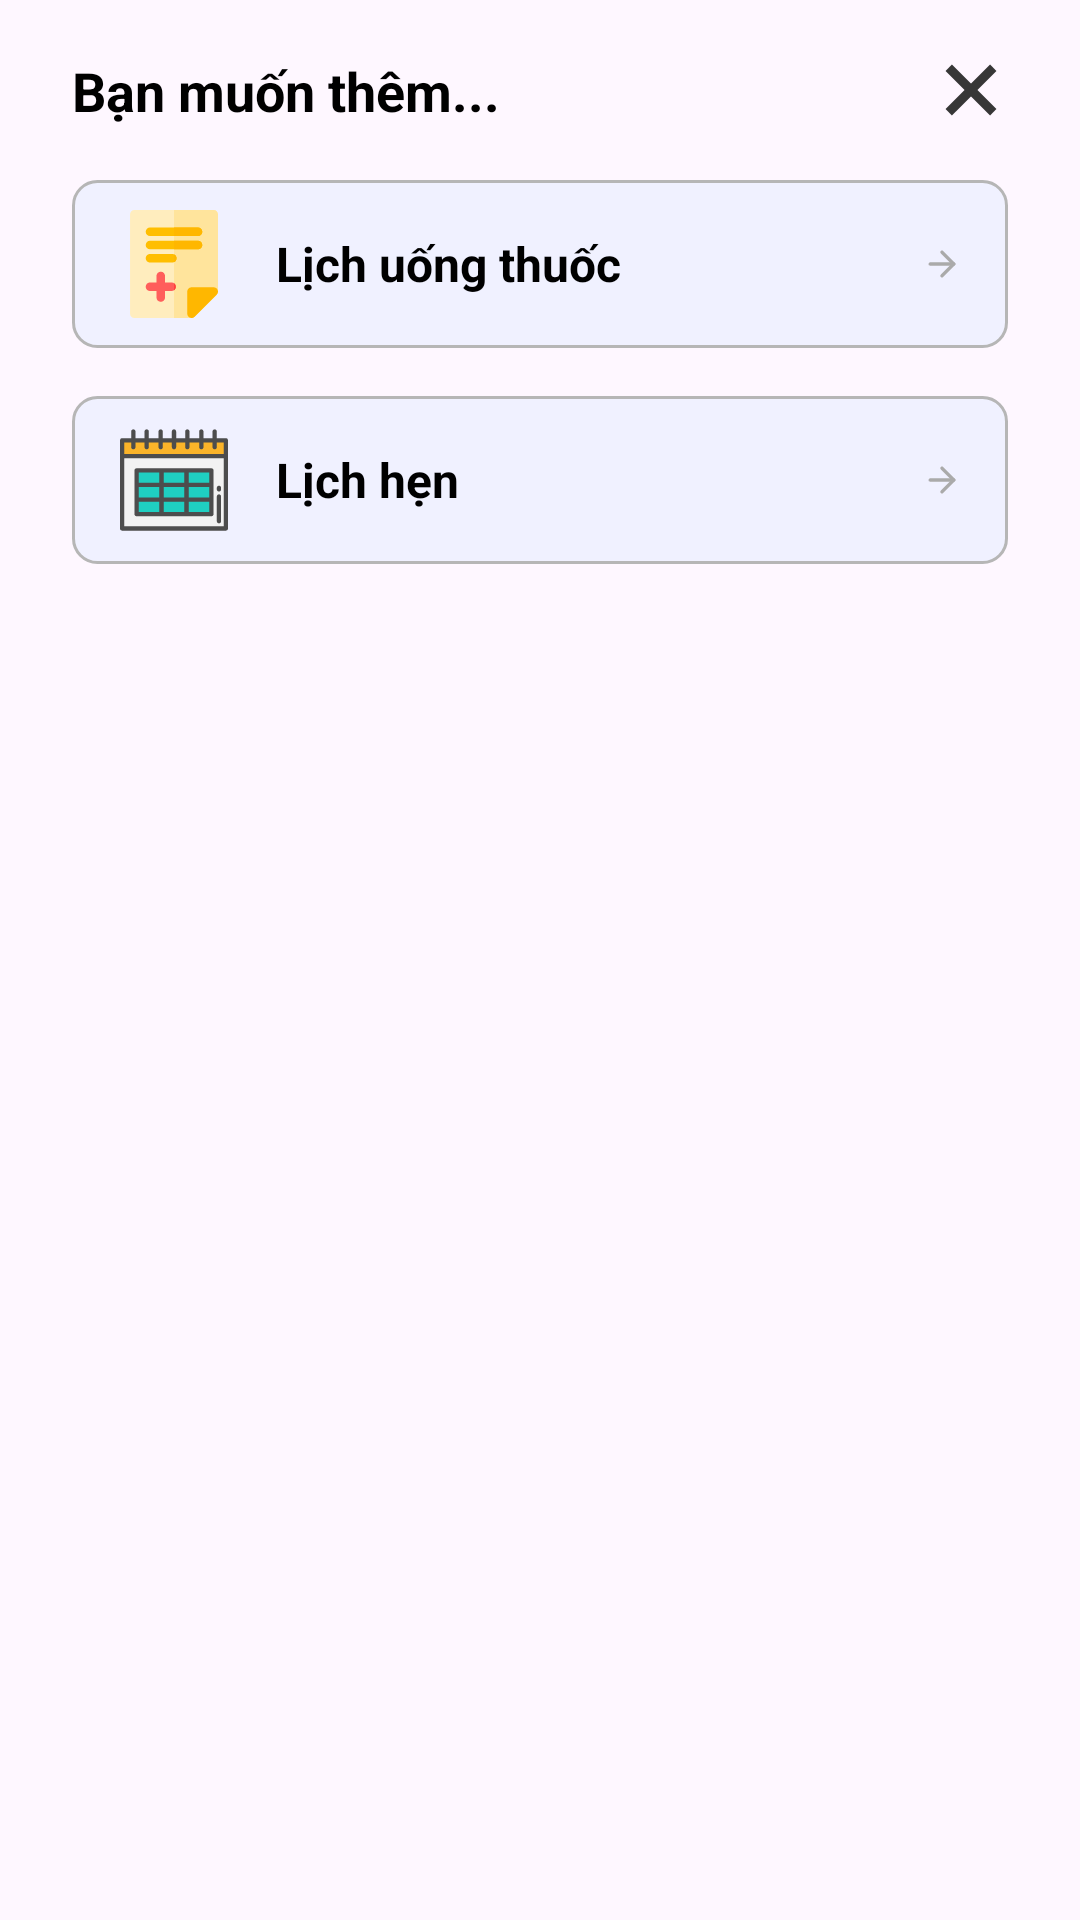

Icon click points for this 1080x1920 phone screenshot, format (x,y):
appointment: (174,480)
arr right: (942,264), (942,480)
prescription: (174,264)
